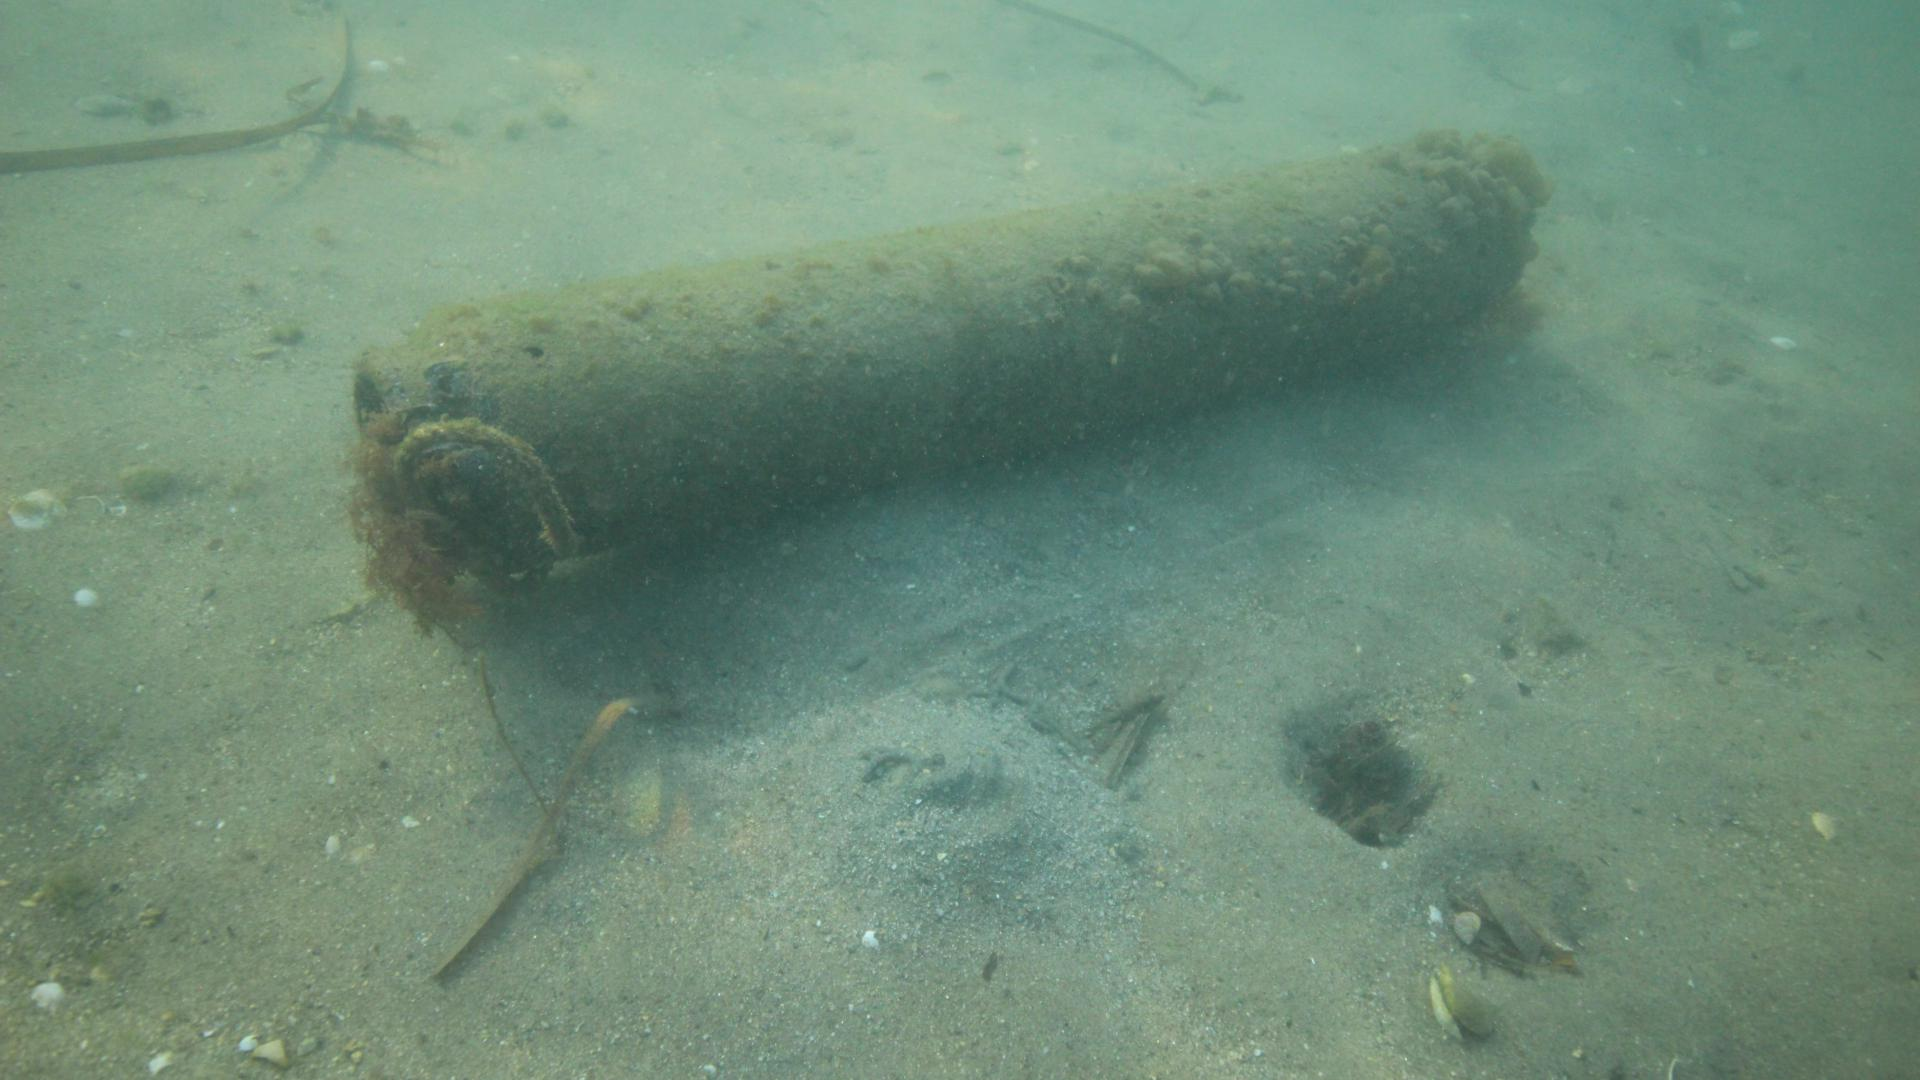eel fish trap: (349, 135, 1527, 580)
